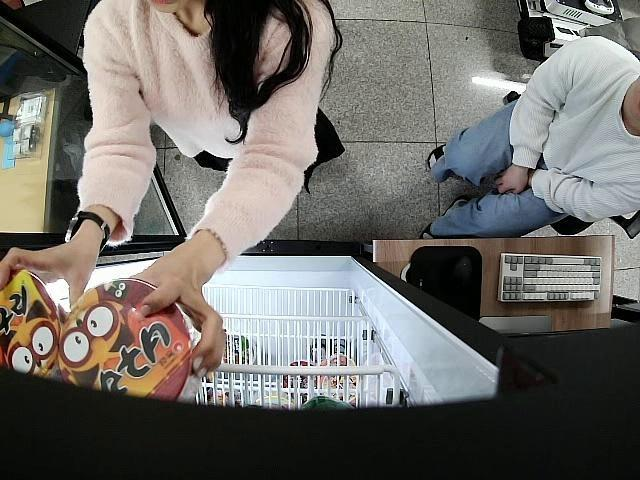05_nuguri_L: (60, 278, 205, 407), (0, 268, 59, 377)
